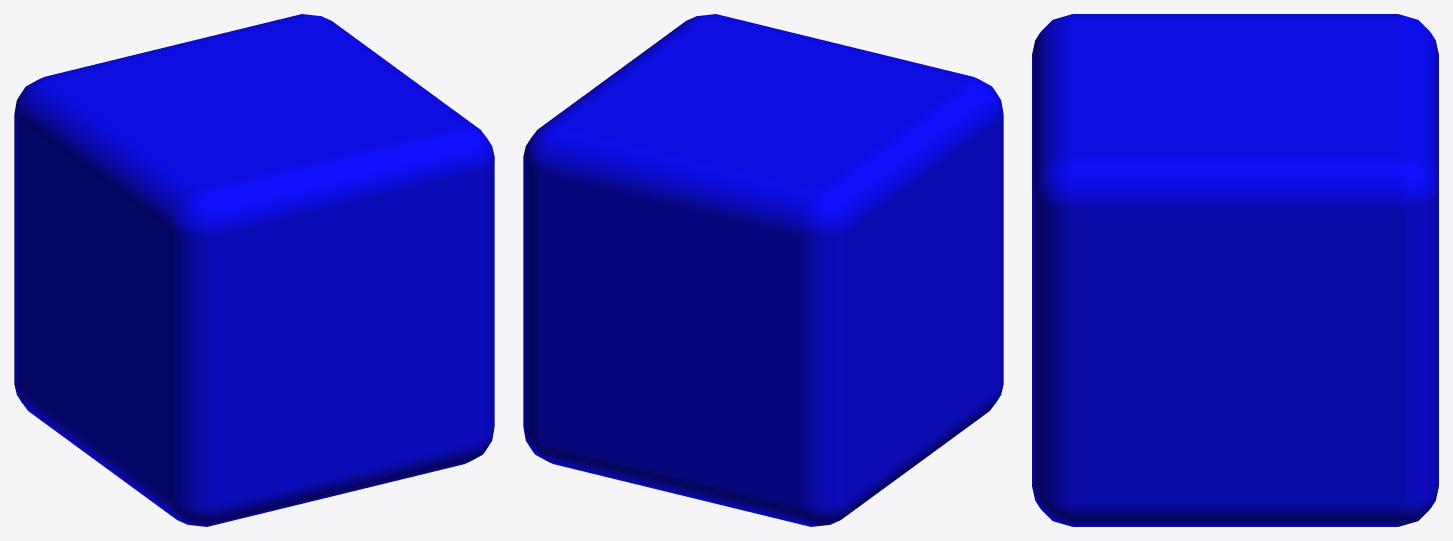
The picture shows the model from 3 angles, left to right: view 1: azimuth 30°, elevation 25°; view 2: azimuth 150°, elevation 25°; view 3: azimuth 270°, elevation 25°; orthographic projection. The views are drawn at different scales.
Parts seen in each view (by area): view 1: Cube (Change color here pls); view 2: Cube (Change color here pls); view 3: Cube (Change color here pls).
Part boxes in pixels (x1=…): Cube (Change color here pls): x1=14, y1=14, x2=494, y2=526; Cube (Change color here pls): x1=523, y1=14, x2=1003, y2=526; Cube (Change color here pls): x1=1032, y1=14, x2=1438, y2=526.
Size of the model in its own units: 1 by 0.9954 by 0.9985.
